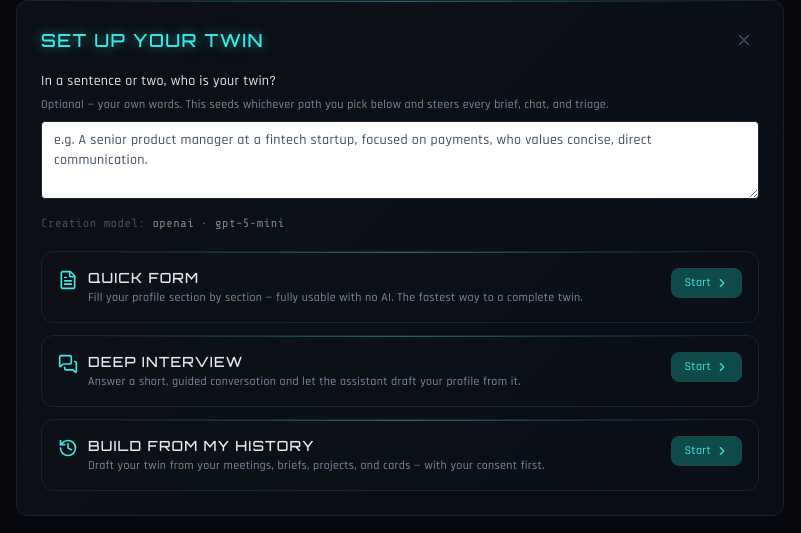
Test: TwinWizard — Quick form step flow › Back on step 1 returns to the mode-choice screen (not a dead disabled button)
What coordinates should you click on to do the following:
click the button with aria-label "start quick form"
I would click on:
 (707, 283)
Its box is [671, 268, 742, 298].
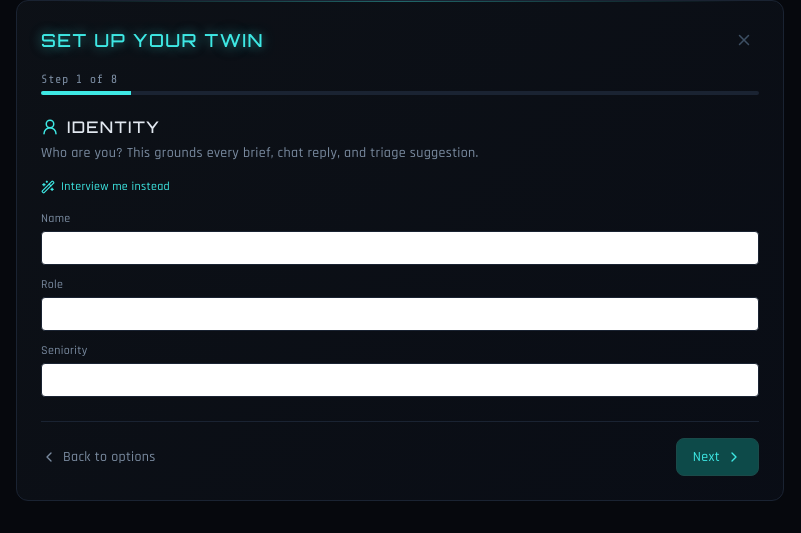
Now the text "Step 1 of 8" is shown, box [41, 72, 118, 86]
What coordinates should you click on to do the following:
click the button "Back to options"
I would click on:
 (98, 457)
Its box is [41, 447, 156, 467].
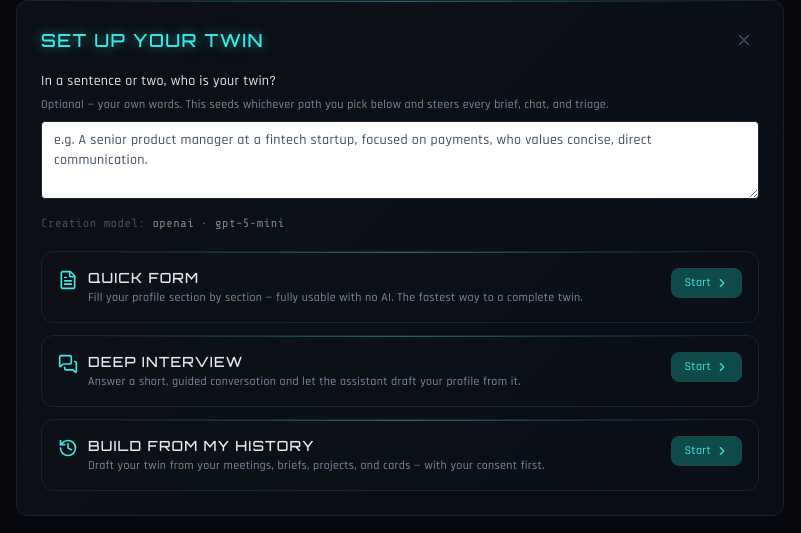
Now the button with aria-label "start quick form" is shown, box [671, 268, 742, 298]
Now the text "Step 1 of 8" is gone
